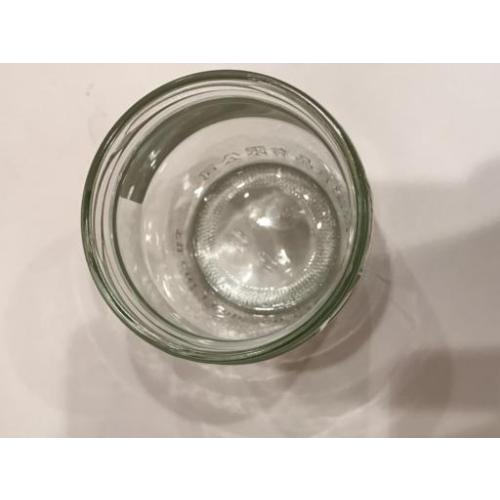glass: (81, 71, 374, 363)
